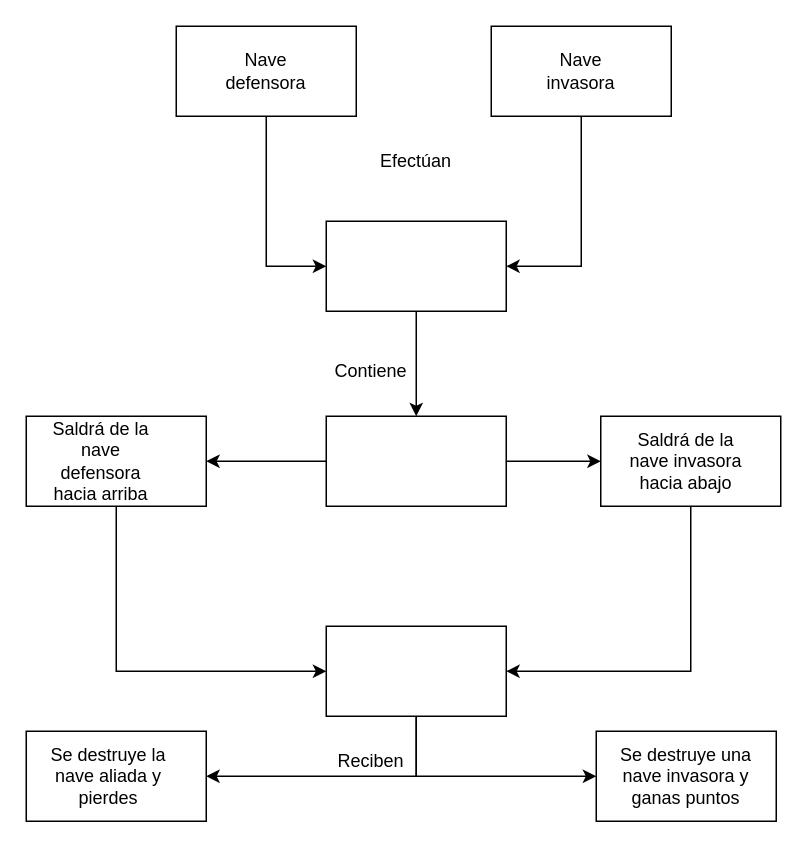
Some shapes in this 807 by 848 pixel diagram are drawn without their labels. Each missing label, with the box of its shape:
DIsparo: (325, 220, 506, 311)
Impacto: (325, 625, 506, 716)
TRAYECTO: (325, 415, 506, 506)
